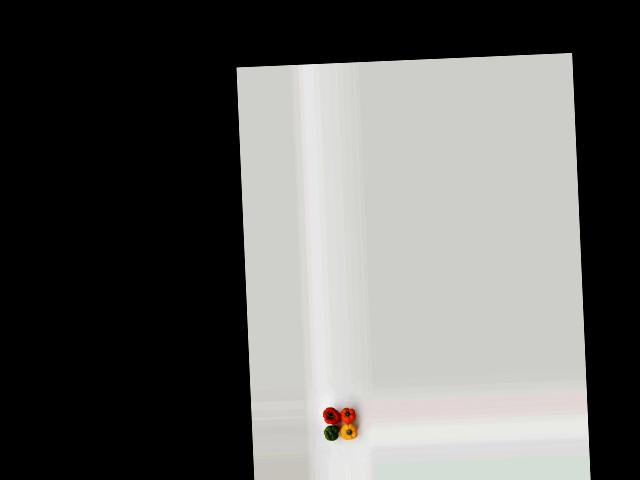bell_pepper: (322, 421, 341, 445)
